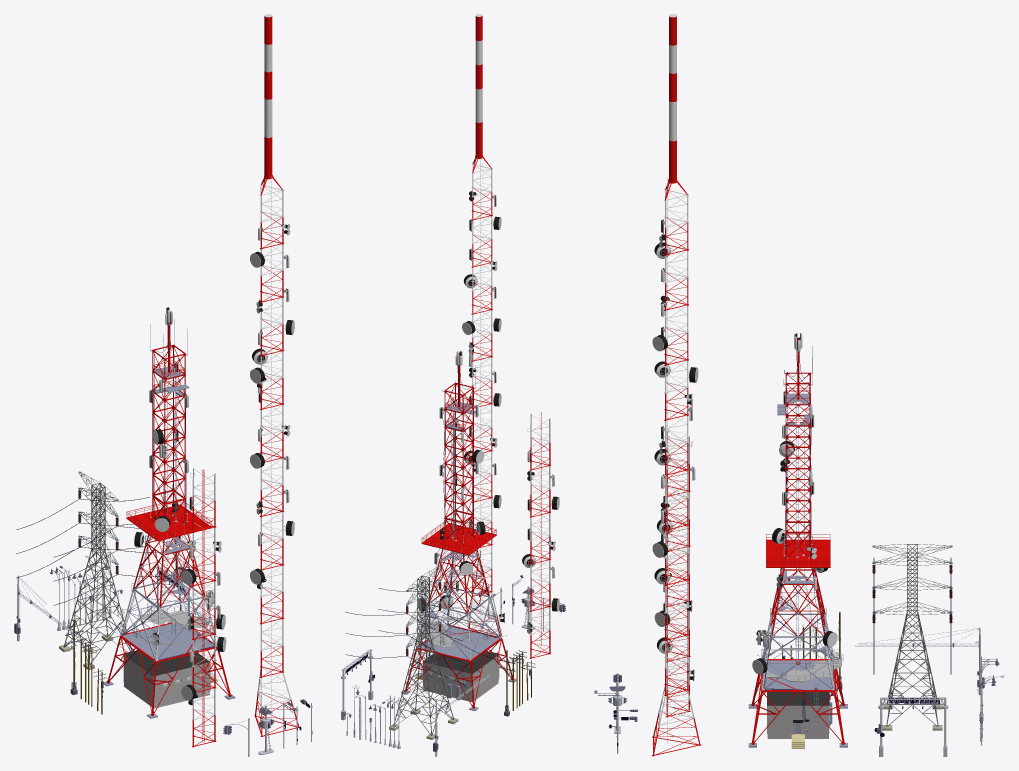
The model's file is towers_lamps_and_structures.glb.
The picture shows the model from 3 angles, left to right: view 1: azimuth 30°, elevation 25°; view 2: azimuth 150°, elevation 25°; view 3: azimuth 270°, elevation 25°; orthographic projection. The views are drawn at different scales.
Visible parts, largest first — view 1: radio tower_01_0, radio tower_03_2, o_transmission_tower_01_28, radio tower_02_1, street_structure_01_9; view 2: radio tower_01_0, radio tower_03_2, o_transmission_tower_01_28, radio tower_02_1, street_structure_02_8, street_structure_01_9; view 3: radio tower_01_0, radio tower_03_2, o_transmission_tower_01_28, radio tower_02_1, street_structure_02_8, street_structure_01_9.
Part boxes in pixels (<box>): radio tower_01_0: <box>103,307,235,718</box>; radio tower_03_2: <box>250,14,299,736</box>; o_transmission_tower_01_28: <box>16,471,171,669</box>; radio tower_02_1: <box>181,468,226,747</box>; street_structure_01_9: <box>14,575,79,641</box>; radio tower_01_0: <box>401,351,516,710</box>; radio tower_03_2: <box>462,14,502,636</box>; o_transmission_tower_01_28: <box>345,565,495,739</box>; radio tower_02_1: <box>522,412,559,658</box>; street_structure_02_8: <box>341,649,374,720</box>; street_structure_01_9: <box>433,675,489,756</box>; radio tower_01_0: <box>748,333,847,748</box>; radio tower_03_2: <box>652,14,701,756</box>; o_transmission_tower_01_28: <box>872,544,952,730</box>; radio tower_02_1: <box>654,429,695,717</box>; street_structure_02_8: <box>874,697,948,756</box>; street_structure_01_9: <box>855,627,984,694</box>.
Bounding box in the file's own units: 25.81 × 120 × 60.9.
